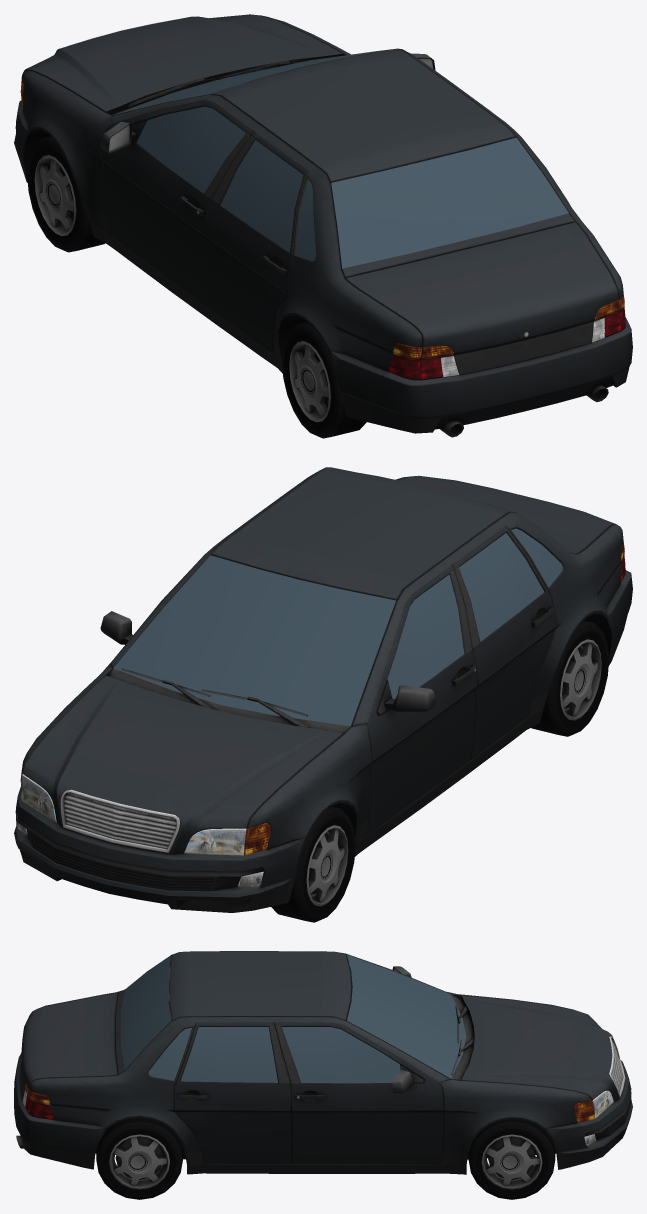
The model's file is sedan.lod0.glb.
The picture shows the model from 3 angles, top to bottom: view 1: azimuth 30°, elevation 25°; view 2: azimuth 150°, elevation 25°; view 3: azimuth 270°, elevation 25°; orthographic projection. The views are drawn at different scales.
Visible parts, largest first — view 1: sedan_body, wheel_RL, wheel_FL; view 2: sedan_body, wheel_FL, wheel_RL; view 3: sedan_body, wheel_RR, wheel_FR.
Boxes of the visible parts, x1,y1,x2,y2 form: sedan_body: (14, 14, 632, 437); wheel_RL: (282, 322, 366, 438); wheel_FL: (27, 136, 105, 252); sedan_body: (14, 467, 632, 912); wheel_FL: (271, 806, 355, 922); wheel_RL: (531, 620, 609, 736); sedan_body: (14, 951, 632, 1174); wheel_RR: (96, 1118, 182, 1199); wheel_FR: (468, 1119, 555, 1199).
Size of the model in its own units: 2.09 by 1.45 by 4.7.
5 materials, 4 textured.
